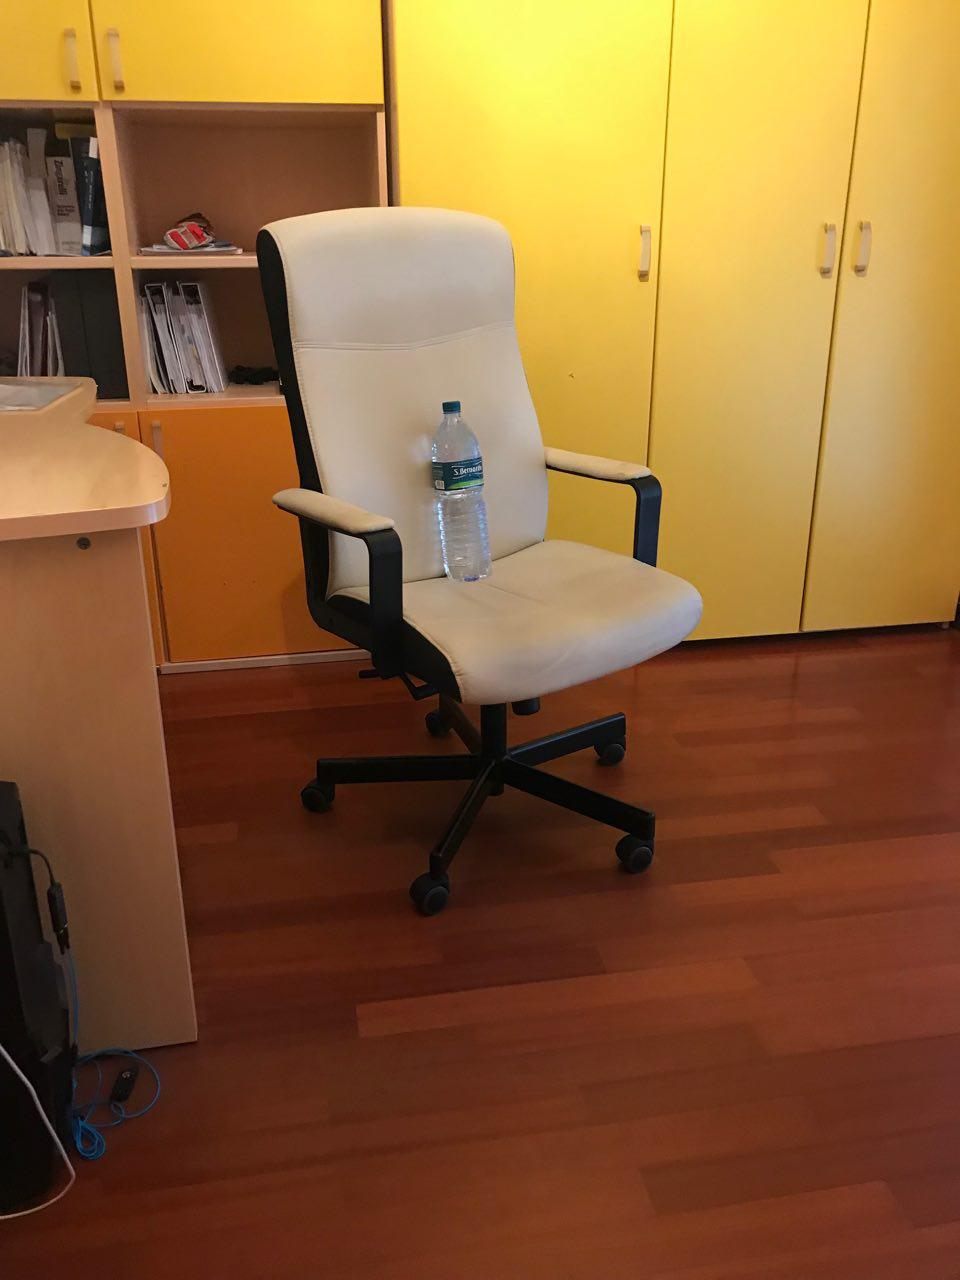san_bernardo: (431, 399, 491, 583)
